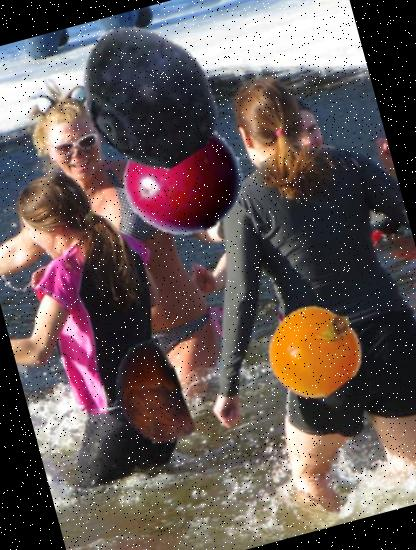Blueberry: (56, 4, 240, 188)
Chestnut: (82, 328, 218, 462)
Physalis: (256, 290, 376, 412)
Tamarillo: (107, 96, 269, 258)
